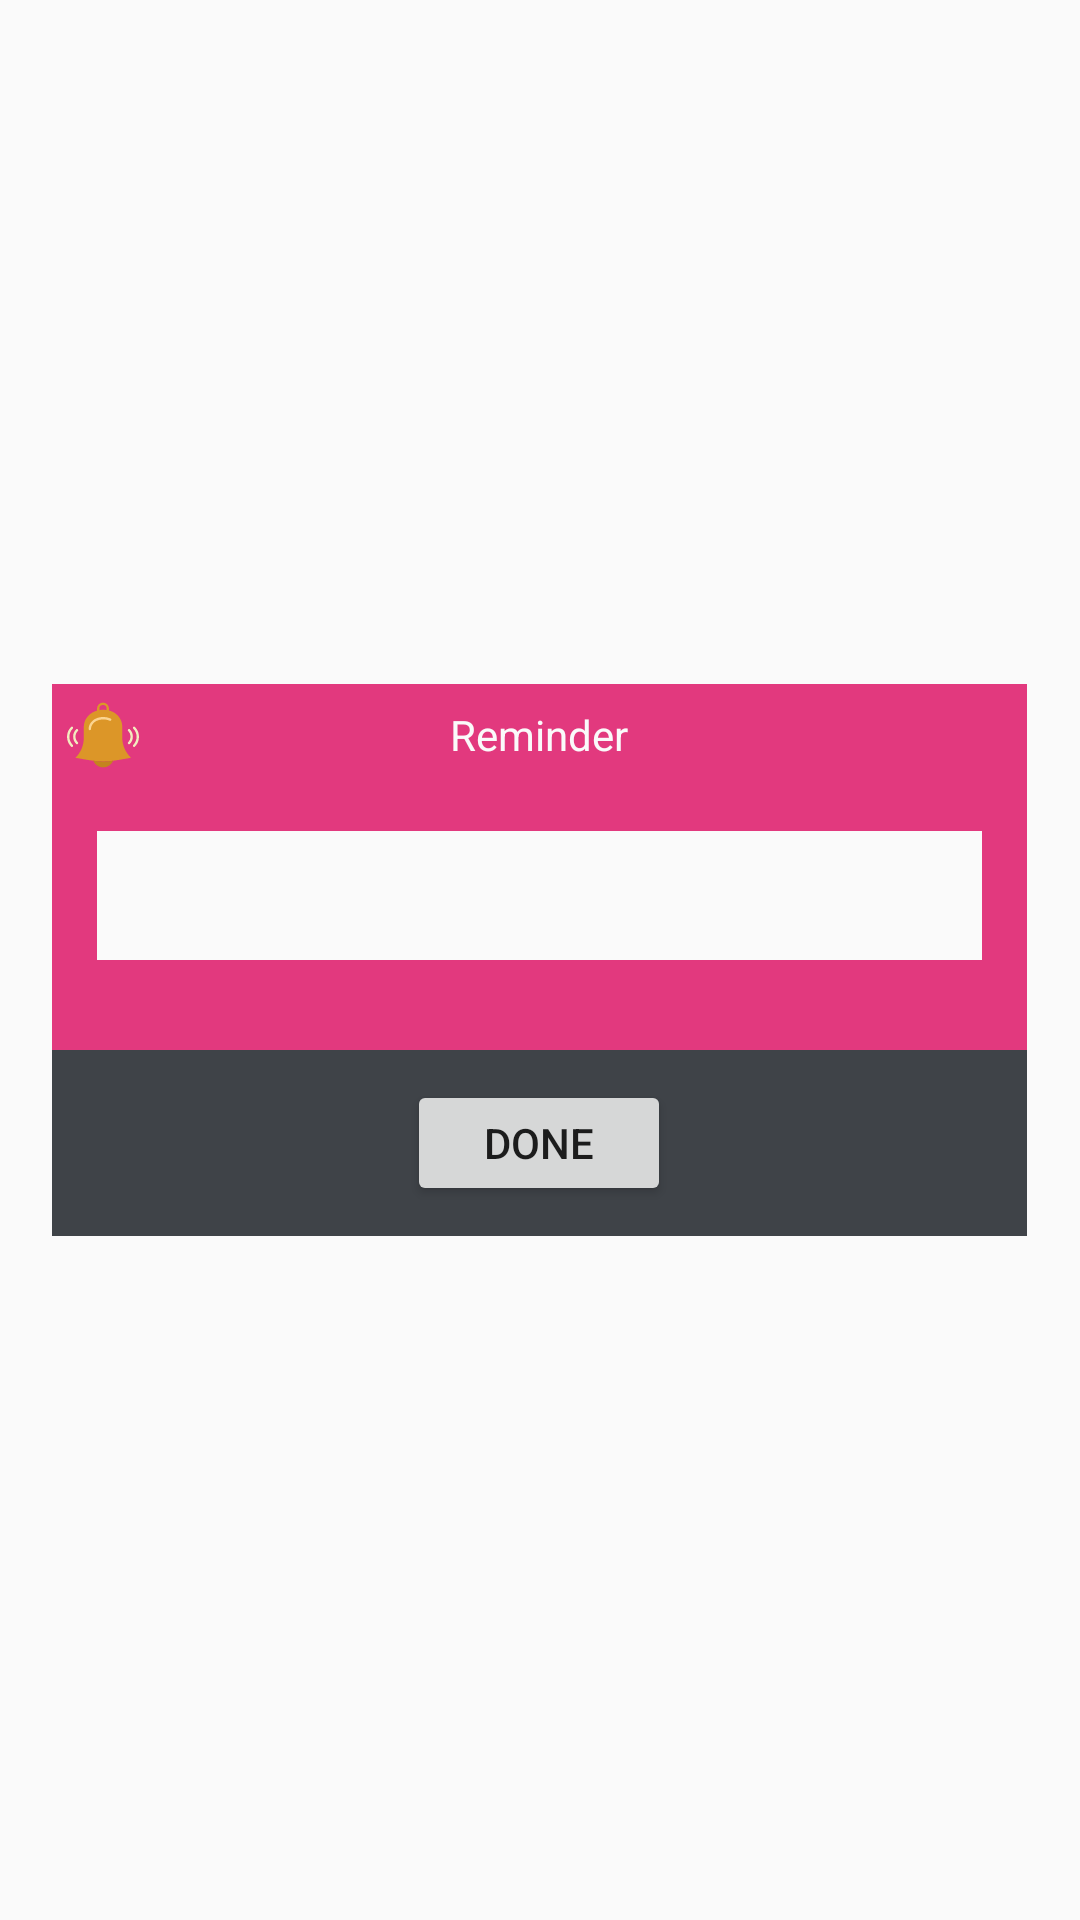

Where to tap for icons on this 1080x1920 app screen, as [x,y]:
alarm: [103,735]
